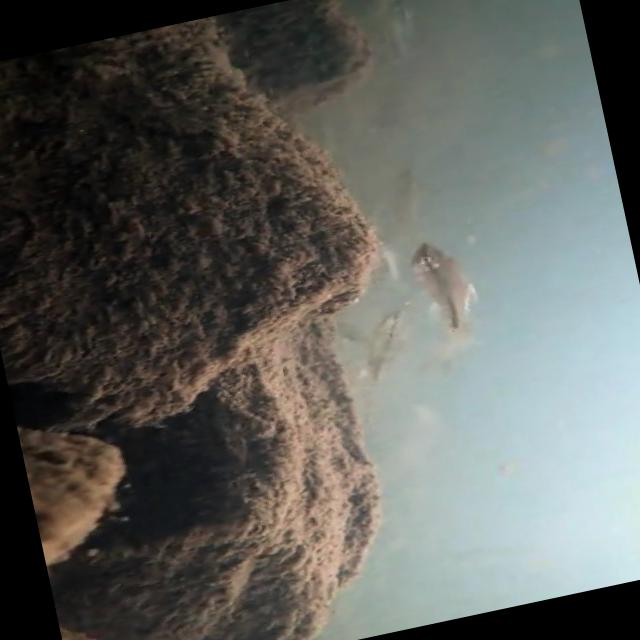Cakil Baligi: (398, 233, 489, 370)
